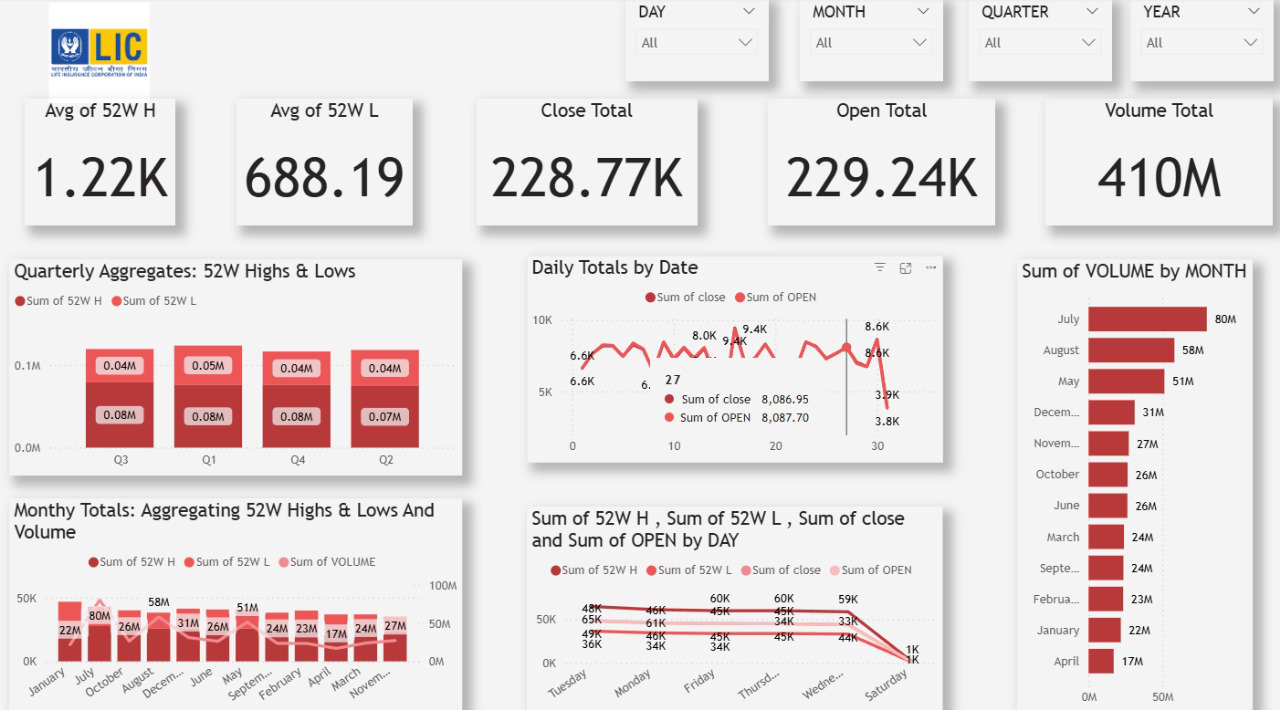

What the dashboard file says about the page in this screenshot:
{"tool":"powerbi","page":{"name":"Page 1","canvas":[1280,720],"ordinal":0},"visuals":[{"type":"image","box":[35.5,0,132.1,110.1],"z":0},{"type":"slicer","fields":{"Values":["Quote-Equity-LICI-EQ-16-07-2024-to-16-07-2025.DAY"]},"box":[623.6,0,141.8,83.2],"z":1000},{"type":"slicer","fields":{"Values":["Quote-Equity-LICI-EQ-16-07-2024-to-16-07-2025.MONTH"]},"box":[797.3,0,141.8,83.2],"z":2000},{"type":"slicer","fields":{"Values":["Quote-Equity-LICI-EQ-16-07-2024-to-16-07-2025.QUARTER"]},"box":[964.8,0,141.8,83.2],"z":3000},{"type":"slicer","fields":{"Values":["Quote-Equity-LICI-EQ-16-07-2024-to-16-07-2025.YEAR"]},"box":[1125,0,142,83.2],"z":4000},{"type":"card","title":"Avg of 52W H","fields":{"Values":["Avg(Quote-Equity-LICI-EQ-16-07-2024-to-16-07-2025.52W H )"]},"box":[26.9,100.3,150.4,126],"z":5000},{"type":"card","title":"Avg of 52W L","fields":{"Values":["Avg(Quote-Equity-LICI-EQ-16-07-2024-to-16-07-2025.52W L )"]},"box":[237.2,100.3,174.9,126],"z":6000},{"type":"card","title":"Close Total","fields":{"Values":["Sum(Quote-Equity-LICI-EQ-16-07-2024-to-16-07-2025.close )"]},"box":[475.7,100.3,218.9,126],"z":7000},{"type":"card","title":"Open Total","fields":{"Values":["Sum(Quote-Equity-LICI-EQ-16-07-2024-to-16-07-2025.OPEN )"]},"box":[765.5,100.3,226.2,126],"z":8000},{"type":"card","title":"Volume Total","fields":{"Values":["Sum(Quote-Equity-LICI-EQ-16-07-2024-to-16-07-2025.VOLUME )"]},"box":[1040.6,100.3,226.2,126],"z":9000},{"type":"lineStackedColumnComboChart","title":"Quarterly Aggregates: 52W Highs & Lows","fields":{"Category":["Quote-Equity-LICI-EQ-16-07-2024-to-16-07-2025.QUARTER"],"Y":["Sum(Quote-Equity-LICI-EQ-16-07-2024-to-16-07-2025.52W H )","Sum(Quote-Equity-LICI-EQ-16-07-2024-to-16-07-2025.52W L )"]},"box":[12.2,260.5,450,215.2],"z":10000},{"type":"lineStackedColumnComboChart","title":"Monthy Totals: Aggregating 52W Highs & Lows And Volume","fields":{"Y":["Sum(Quote-Equity-LICI-EQ-16-07-2024-to-16-07-2025.52W H )","Sum(Quote-Equity-LICI-EQ-16-07-2024-to-16-07-2025.52W L )"],"Category":["Quote-Equity-LICI-EQ-16-07-2024-to-16-07-2025.MONTH"],"Y2":["Sum(Quote-Equity-LICI-EQ-16-07-2024-to-16-07-2025.VOLUME )"]},"box":[12.2,497.7,450,214],"z":11000},{"type":"lineChart","title":"Daily Totals by Date","fields":{"Y":["Sum(Quote-Equity-LICI-EQ-16-07-2024-to-16-07-2025.close )","Sum(Quote-Equity-LICI-EQ-16-07-2024-to-16-07-2025.OPEN )"],"Category":["Quote-Equity-LICI-EQ-16-07-2024-to-16-07-2025.Date .Variation.Date Hierarchy.Day"]},"box":[525.8,256.8,413.3,205.4],"z":12000},{"type":"lineChart","fields":{"Y":["Sum(Quote-Equity-LICI-EQ-16-07-2024-to-16-07-2025.52W H )","Sum(Quote-Equity-LICI-EQ-16-07-2024-to-16-07-2025.52W L )","Sum(Quote-Equity-LICI-EQ-16-07-2024-to-16-07-2025.close )","Sum(Quote-Equity-LICI-EQ-16-07-2024-to-16-07-2025.OPEN )"],"Category":["Quote-Equity-LICI-EQ-16-07-2024-to-16-07-2025.DAY"]},"box":[525.8,506.3,413.3,205.4],"z":13000},{"type":"clusteredBarChart","fields":{"Category":["Quote-Equity-LICI-EQ-16-07-2024-to-16-07-2025.MONTH"],"Y":["Sum(Quote-Equity-LICI-EQ-16-07-2024-to-16-07-2025.VOLUME )"]},"box":[1012.5,260.5,233.6,451.2],"z":14000}]}

Visuals, with their boxes in screenshot pixels (x1, y1, x2, y2), scaled from the page's 1280x720 canvas onto the 1280x710 screenshot:
image: detection(36, 0, 168, 109)
slicer - Quote-Equity-LICI-EQ-16-07-2024-to-16-07-2025.DAY: detection(624, 0, 765, 82)
slicer - Quote-Equity-LICI-EQ-16-07-2024-to-16-07-2025.MONTH: detection(797, 0, 939, 82)
slicer - Quote-Equity-LICI-EQ-16-07-2024-to-16-07-2025.QUARTER: detection(965, 0, 1107, 82)
slicer - Quote-Equity-LICI-EQ-16-07-2024-to-16-07-2025.YEAR: detection(1125, 0, 1267, 82)
"Avg of 52W H" card: detection(27, 99, 177, 223)
"Avg of 52W L" card: detection(237, 99, 412, 223)
"Close Total" card: detection(476, 99, 695, 223)
"Open Total" card: detection(766, 99, 992, 223)
"Volume Total" card: detection(1041, 99, 1267, 223)
"Quarterly Aggregates: 52W Highs & Lows" lineStackedColumnComboChart: detection(12, 257, 462, 469)
"Monthy Totals: Aggregating 52W Highs & Lows And Volume" lineStackedColumnComboChart: detection(12, 491, 462, 702)
"Daily Totals by Date" lineChart: detection(526, 253, 939, 456)
lineChart - Sum(Quote-Equity-LICI-EQ-16-07-2024-to-16-07-2025.52W H ) x Sum(Quote-Equity-LICI-EQ-16-07-2024-to-16-07-2025.52W L ): detection(526, 499, 939, 702)
clusteredBarChart - Quote-Equity-LICI-EQ-16-07-2024-to-16-07-2025.MONTH x Sum(Quote-Equity-LICI-EQ-16-07-2024-to-16-07-2025.VOLUME ): detection(1012, 257, 1246, 702)
